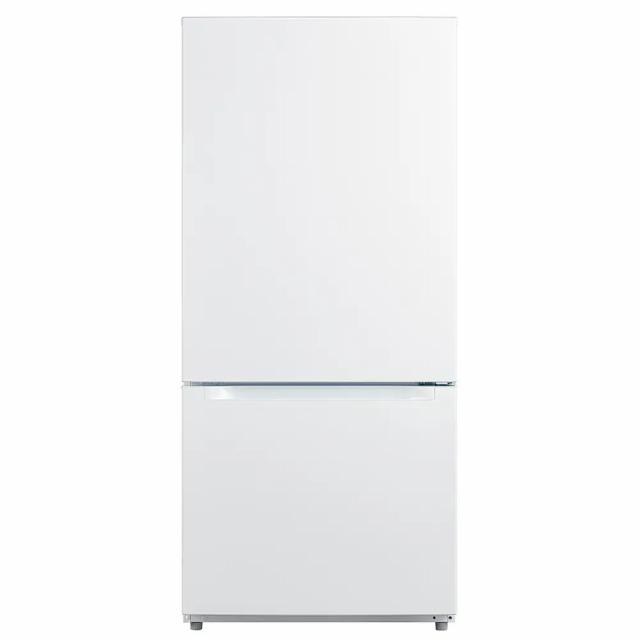refrigerator: (180, 14, 458, 624)
